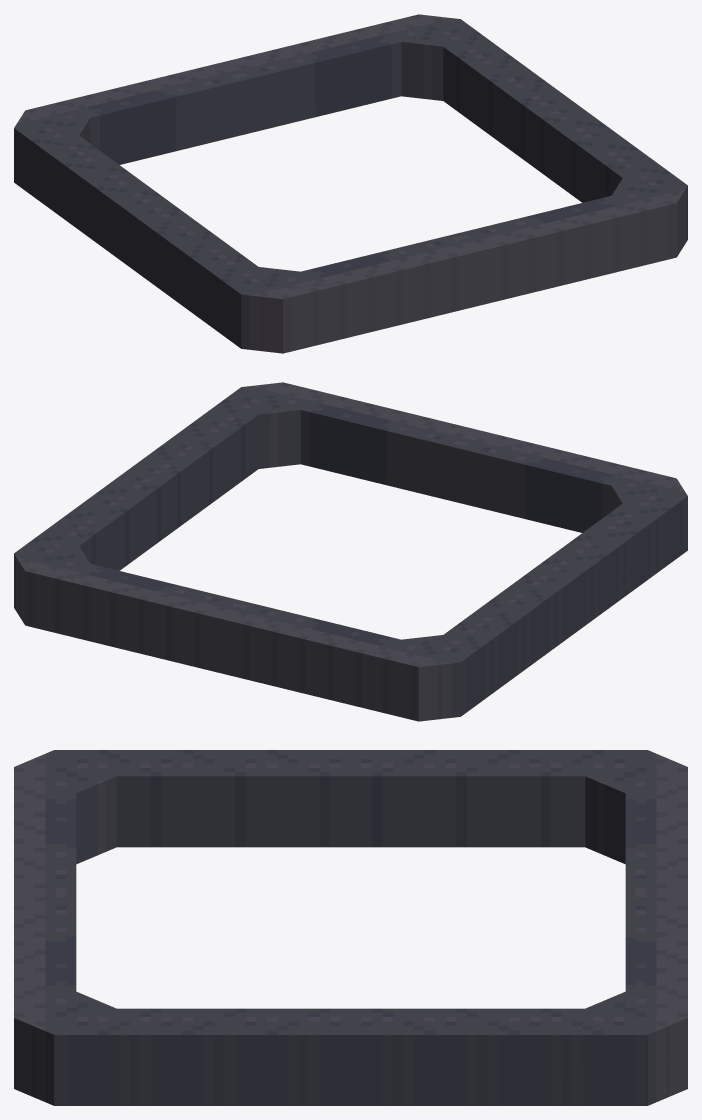
The model's file is InputReader.fbx.
3 views of the same model, one above another, from view 1: azimuth 30°, elevation 25°; view 2: azimuth 150°, elevation 25°; view 3: azimuth 270°, elevation 25° (orthographic). The views are drawn at different scales.
Parts seen in each view (by area): view 1: Plane.002; view 2: Plane.002; view 3: Plane.002.
Part boxes in pixels (x1,y1,x2,y2): Plane.002: (14,14,687,353); Plane.002: (14,382,687,721); Plane.002: (14,750,687,1105).
Bounding box in the file's own units: 21.11 × 2.46 × 21.11.
